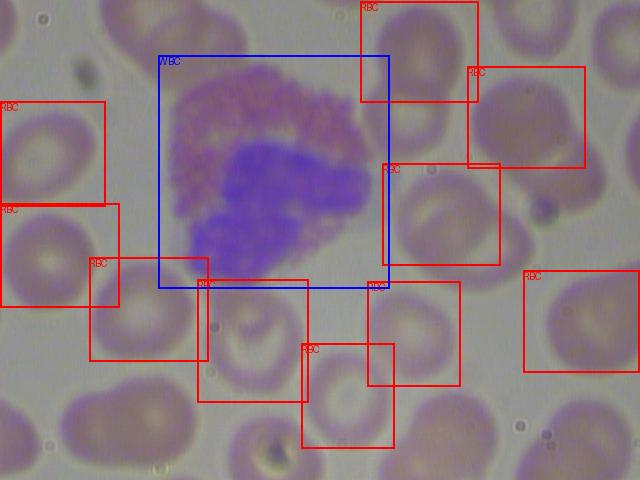RBC: (197, 279, 308, 402), (89, 257, 208, 361), (0, 203, 119, 307), (467, 66, 585, 168), (382, 163, 500, 265), (360, 1, 478, 102), (523, 270, 639, 372), (0, 101, 105, 206), (367, 281, 460, 386), (301, 343, 394, 448)
WBC: (158, 55, 389, 288)
